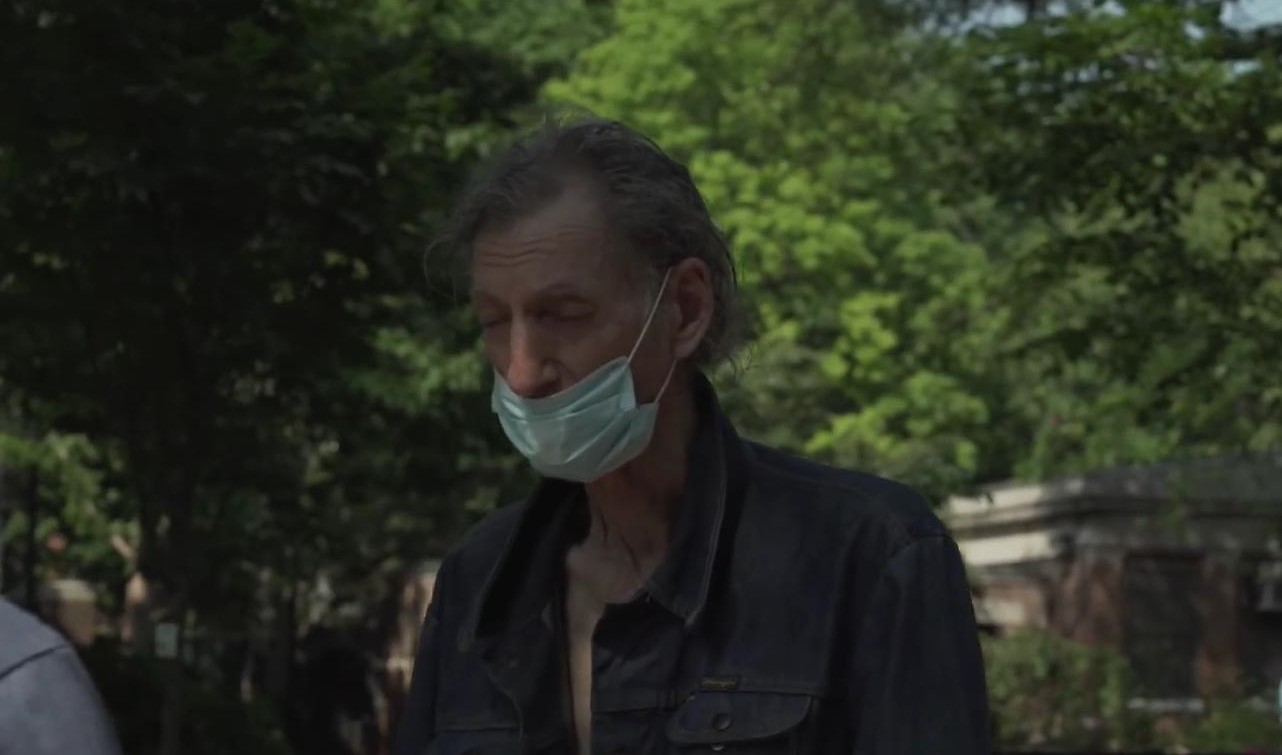with_incorrect_mask: (499, 275, 612, 440)
